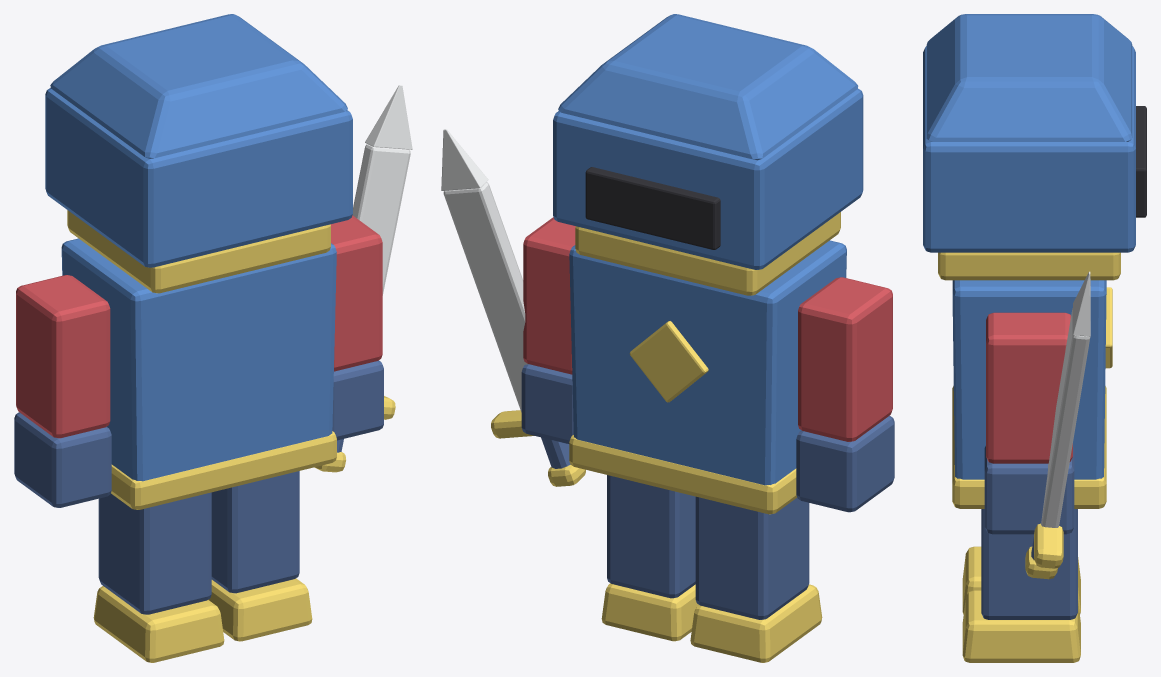
Rendered from swordman.glb.
3 views of the same model, side by side, from view 1: azimuth 30°, elevation 25°; view 2: azimuth 150°, elevation 25°; view 3: azimuth 270°, elevation 25° (orthographic).
Parts seen in each view (by area): view 1: TorsoBody, Helmet, HelmetTop, UpperL, ShinL, ShinR, UpperR, ForeL, Collar, Belt, BootL, BootR (+3 smaller); view 2: TorsoBody, Helmet, HelmetTop, UpperL, ShinL, ShinR, Blade, Visor, ForeL, UpperR, Collar, Belt (+6 smaller); view 3: HelmetTop, Helmet, TorsoBody, UpperR, ShinR, BootR, Collar, ForeR, Blade, Belt, Visor, Guard (+4 smaller).
Boxes of the visible parts, x1,y1,x2,y2 form: TorsoBody: (61, 238, 336, 481); Helmet: (45, 88, 352, 267); HelmetTop: (50, 14, 347, 158); UpperL: (16, 275, 110, 438); ShinL: (98, 492, 211, 614); ShinR: (211, 471, 299, 593); UpperR: (330, 215, 382, 371); ForeL: (14, 412, 111, 507); Collar: (67, 210, 330, 293); Belt: (111, 431, 336, 509); BootL: (93, 586, 224, 662); BootR: (208, 578, 312, 641); TorsoBody: (569, 240, 846, 485); Helmet: (553, 88, 863, 269); HelmetTop: (558, 14, 858, 160); UpperL: (798, 277, 892, 441); ShinL: (695, 496, 809, 619); ShinR: (607, 475, 695, 598); Blade: (443, 182, 528, 412); Visor: (585, 167, 720, 249); ForeL: (796, 415, 894, 512); UpperR: (523, 217, 575, 374); Collar: (575, 212, 840, 295); Belt: (569, 435, 797, 514); HelmetTop: (926, 14, 1132, 141); Helmet: (923, 46, 1135, 252); TorsoBody: (952, 280, 1106, 479); UpperR: (986, 312, 1072, 463); ShinR: (981, 509, 1077, 619); BootR: (962, 590, 1080, 662); Collar: (938, 252, 1120, 280); ForeR: (984, 445, 1074, 534); Blade: (1041, 308, 1090, 527); Belt: (952, 386, 1106, 508); Visor: (1136, 106, 1146, 217); Guard: (1034, 523, 1063, 568).
Size of the model in its own units: 0.7296 by 0.99 by 0.347.
